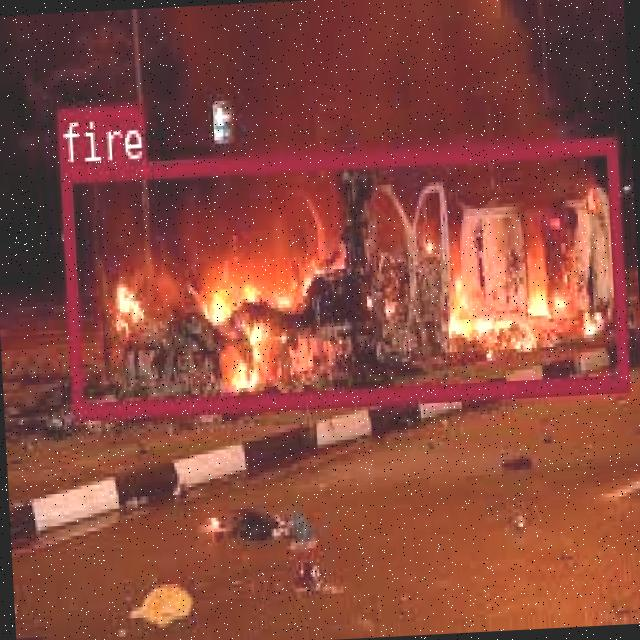fire: (59, 136, 626, 418)
